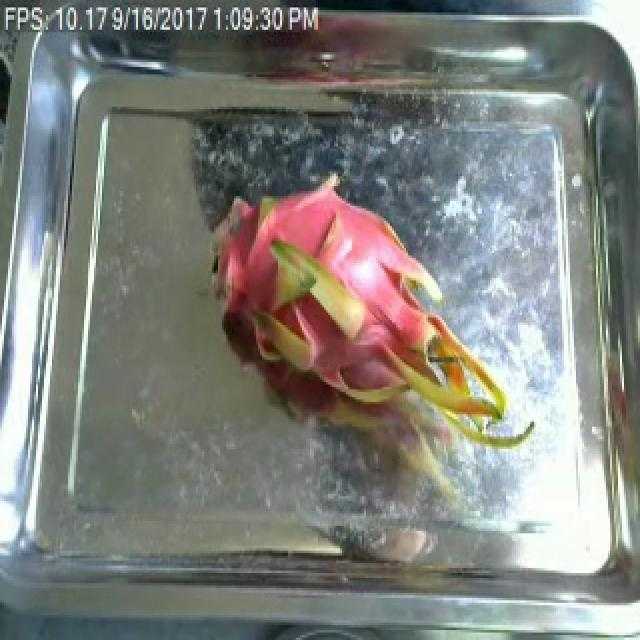fruit: (198, 146, 534, 489)
